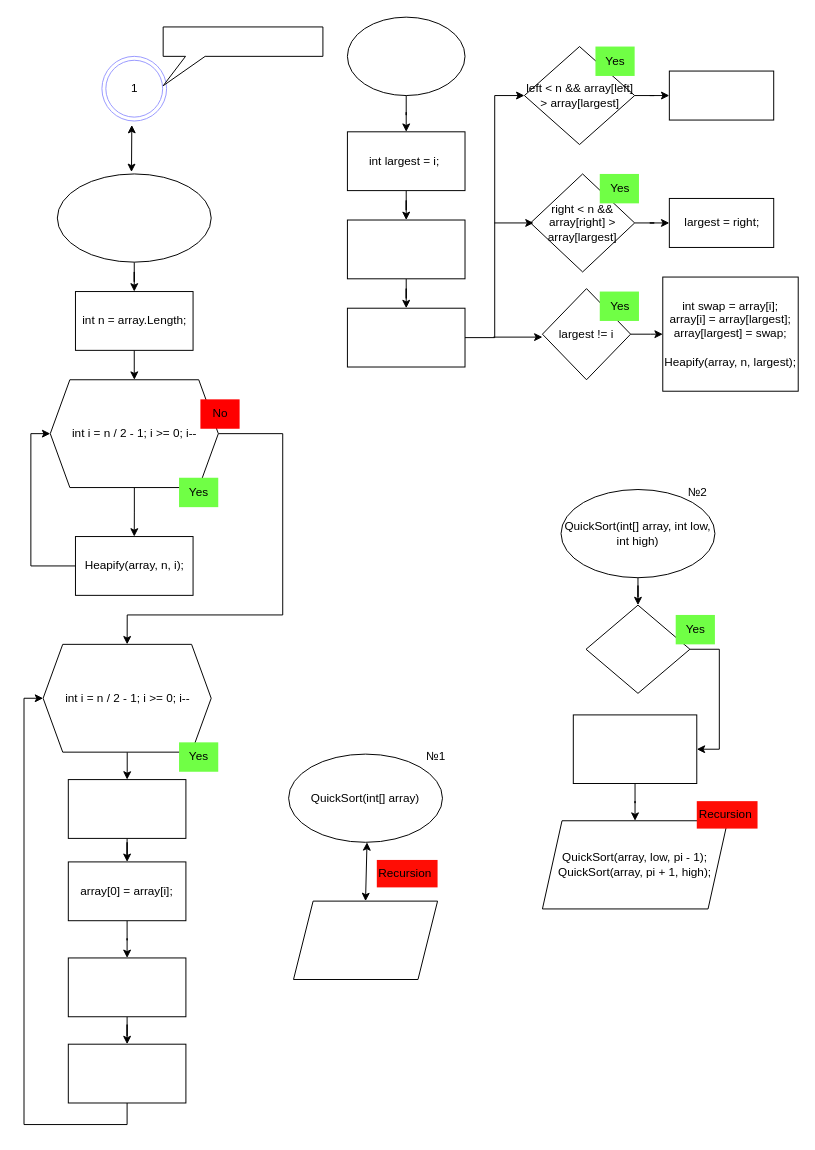
This 815x1150 diagram has some shape labels left out. Here are the shapes that lost their labels. From the top down, the centre of each, then its label:
pixel 242 56: Class SortingAlgorithms
pixel 405 56: void Heapify(int[] array, int n, int i)
pixel 721 95: largest = left;
pixel 133 217: void HeapSort(int[] array)
pixel 405 249: int left = 2 * i + 1;
pixel 405 337: int right = 2 * i + 2;
pixel 637 648: if (low < high)
pixel 634 749: int pi = Partition(array, low, high);
pixel 126 808: int temp = array[0];
pixel 365 940: QuickSort(array, 0, array.Length - 1);
pixel 126 987: array[i] = temp;
pixel 126 1073: Heapify(array, i, 0);
